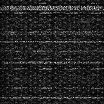lte: (1, 5, 104, 11), (1, 39, 104, 42), (1, 60, 104, 63), (1, 95, 104, 98)
